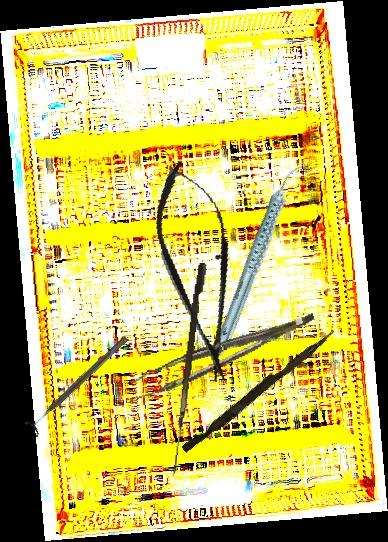Fixation Ring: (23, 330, 134, 439)
Handpiece: (178, 161, 339, 359)
Hook Surgical: (172, 262, 207, 478)
Micro Scissor: (143, 155, 256, 389)
Pusher: (181, 324, 336, 457)
Tissue Forceps: (128, 312, 322, 401)
